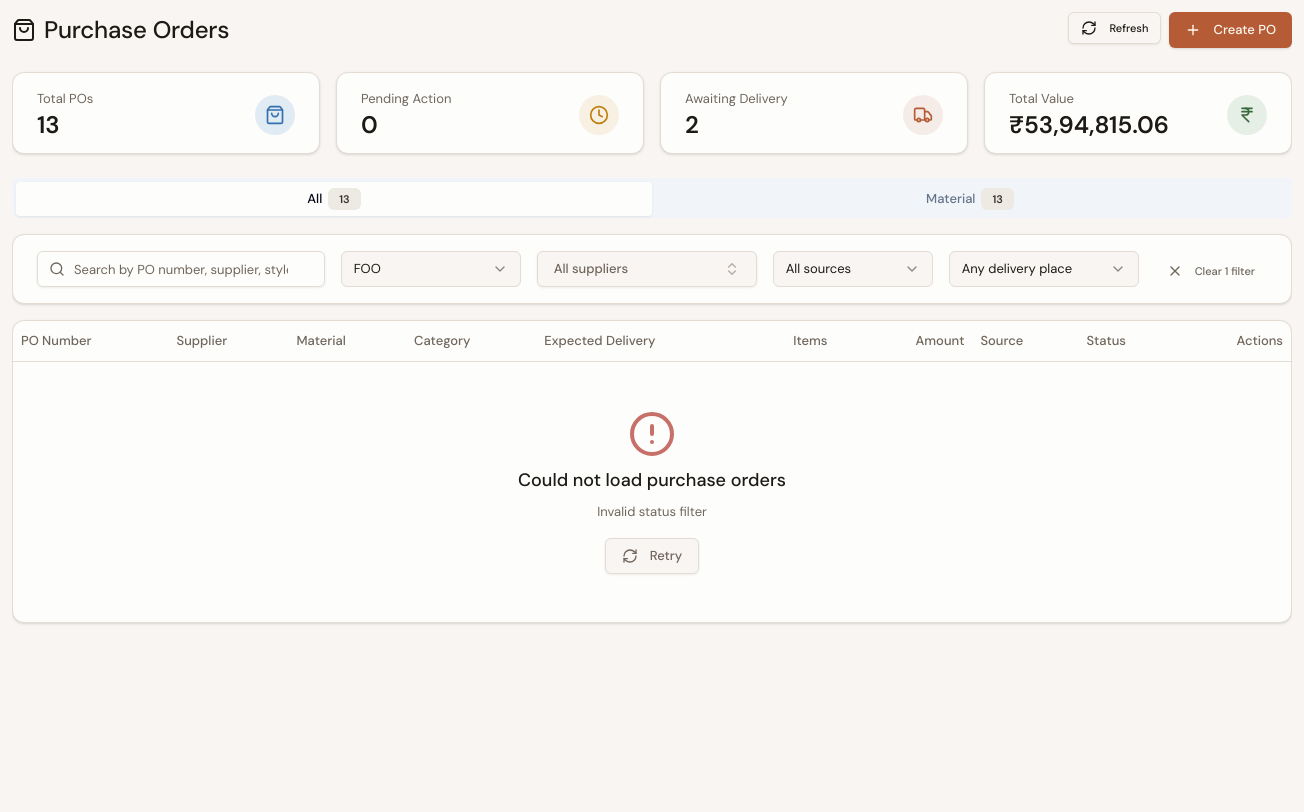
Test: PurchaseOrderList › says a failed load failed, with a Retry — not "create your first purchase order"
This screenshot has width=1304, height=812.
Check: the text "Could not load purchase orders" is shown, box [518,466,786,494]
Check: the text "Invalid status filter" is shown, box [597,502,707,522]
Click the button "Retry": x=652, y=556 [605,538,699,574]
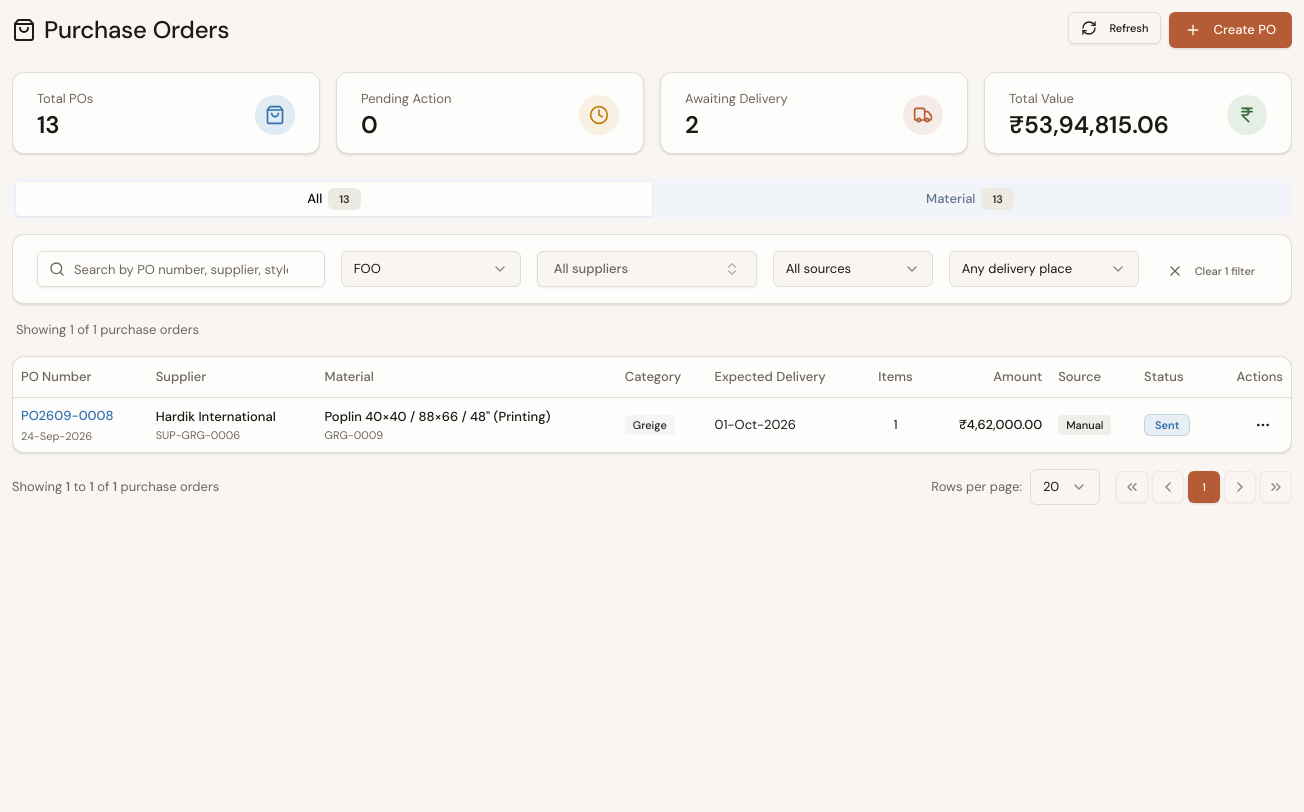
Check: the link "PO2609-0008" is shown, box [21,406,114,424]
